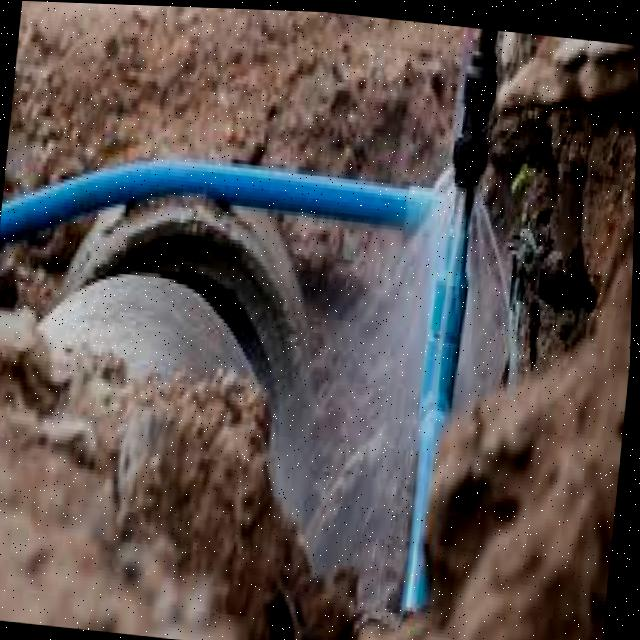corrosion: (282, 105, 515, 500)
